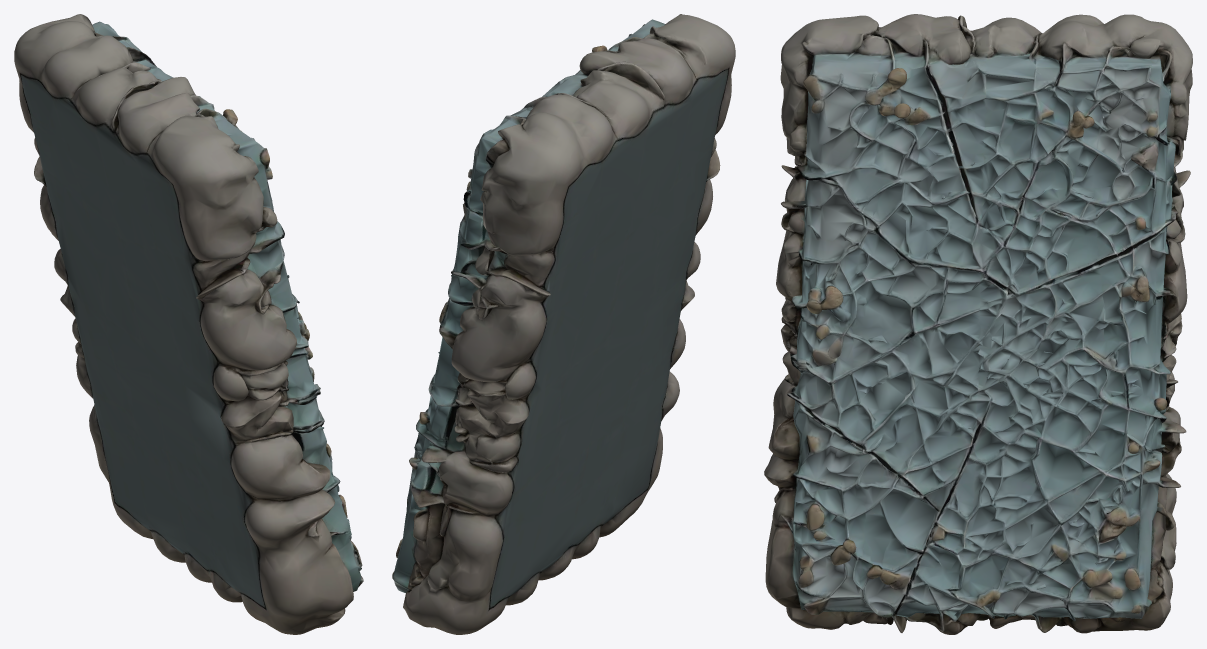
Rendered from tablet_v1.glb.
The picture shows the model from 3 angles, left to right: view 1: azimuth 30°, elevation 25°; view 2: azimuth 150°, elevation 25°; view 3: azimuth 270°, elevation 25°; orthographic projection. The views are drawn at different scales.
Parts seen in each view (by area): view 1: tripo_node_c56073a6-c5fd-4f66-bc1d-9afd01d53cf6; view 2: tripo_node_c56073a6-c5fd-4f66-bc1d-9afd01d53cf6; view 3: tripo_node_c56073a6-c5fd-4f66-bc1d-9afd01d53cf6.
Boxes of the visible parts, x1,y1,x2,y2 form: tripo_node_c56073a6-c5fd-4f66-bc1d-9afd01d53cf6: (14, 14, 363, 634); tripo_node_c56073a6-c5fd-4f66-bc1d-9afd01d53cf6: (392, 14, 735, 634); tripo_node_c56073a6-c5fd-4f66-bc1d-9afd01d53cf6: (764, 14, 1192, 634).
Bounding box in the file's own units: 0.3743 × 0.9997 × 0.6934.
1 material, 1 textured.
